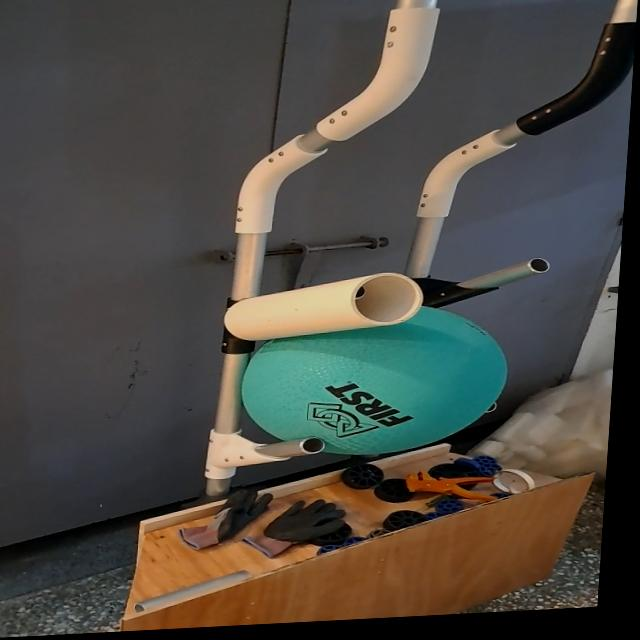ALGAE: (237, 298, 515, 461)
CORAL: (224, 270, 430, 346)
